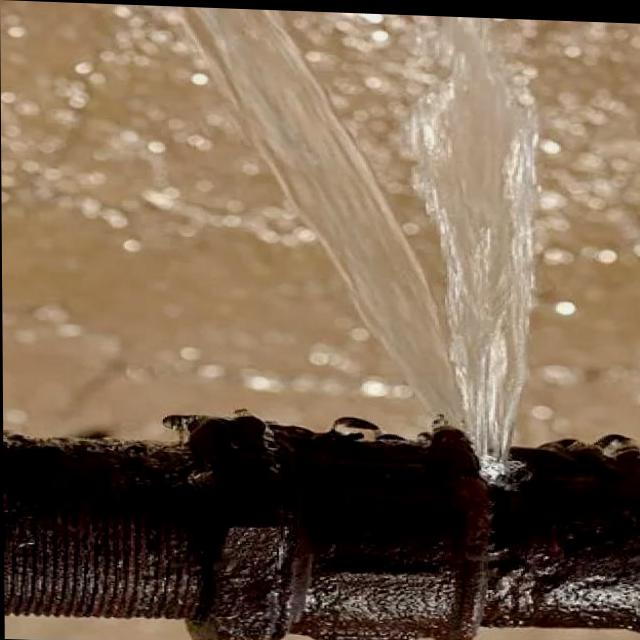leak: (186, 10, 537, 480)
